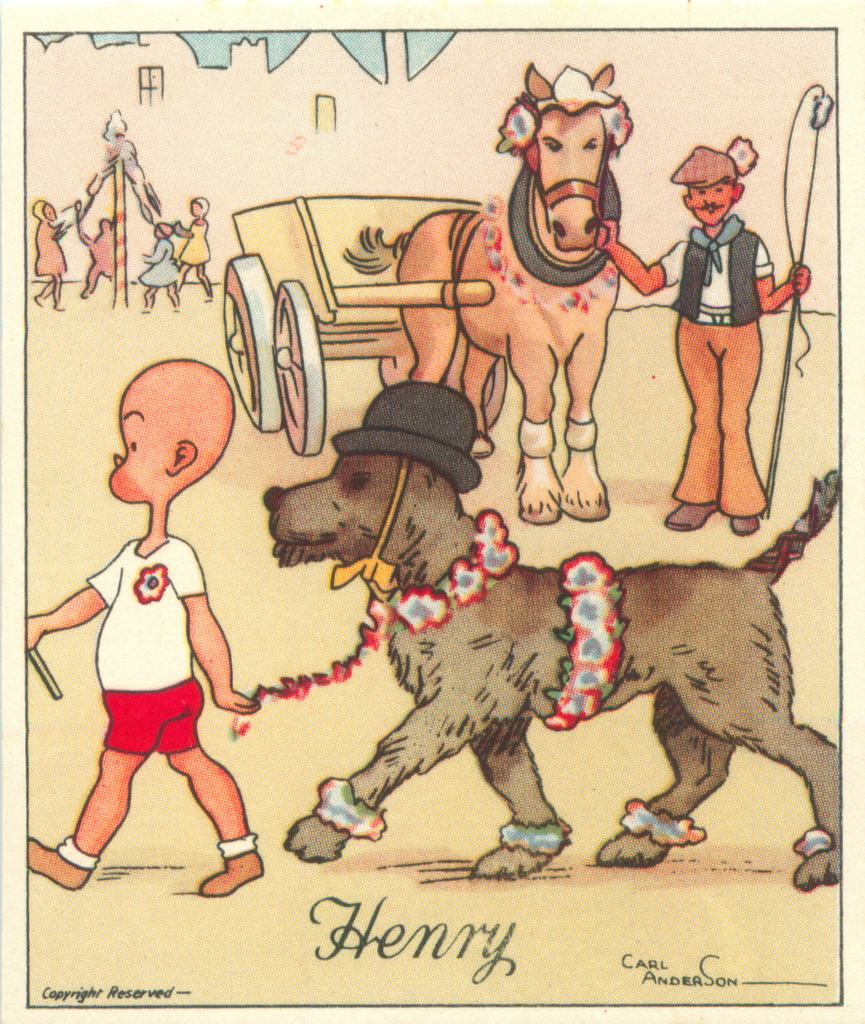Animal: (261, 450, 843, 889), (390, 60, 628, 521)
